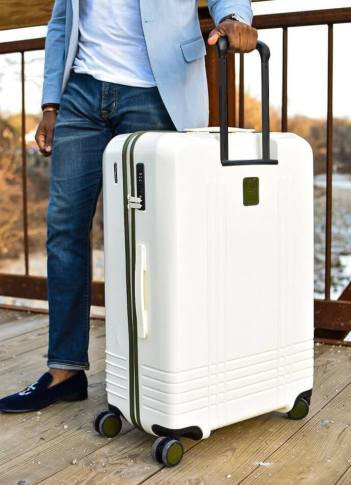luggage: (96, 112, 320, 448)
